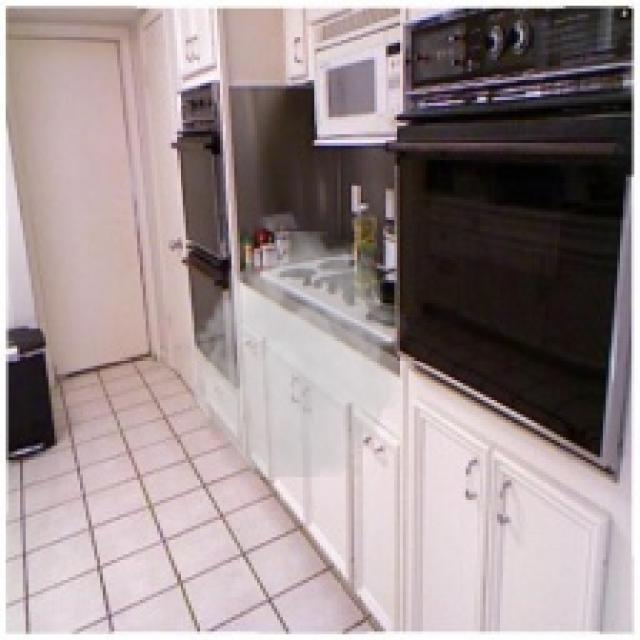Smoke: (182, 232, 408, 477)
